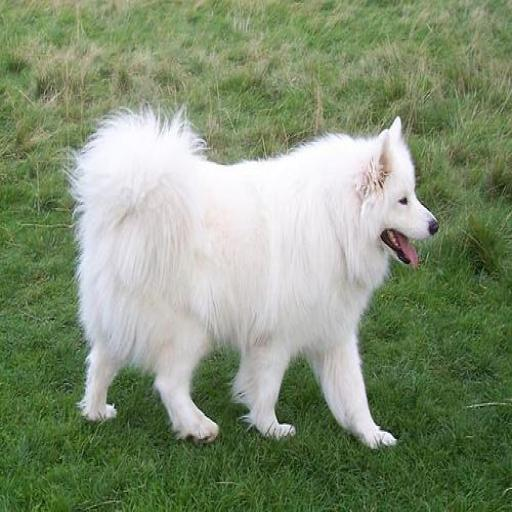dog_face: (363, 125, 441, 272)
